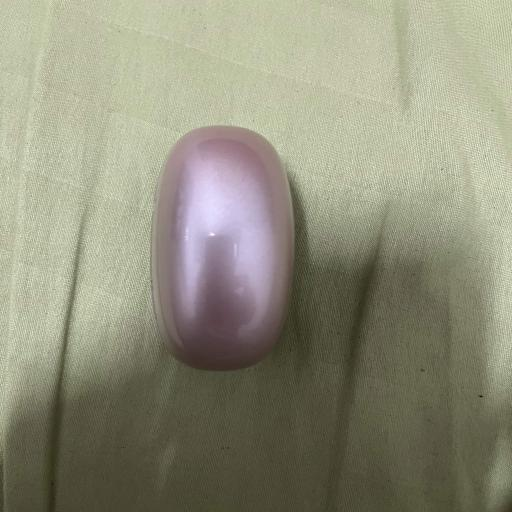GOOJODOQ: (151, 126, 293, 370)
